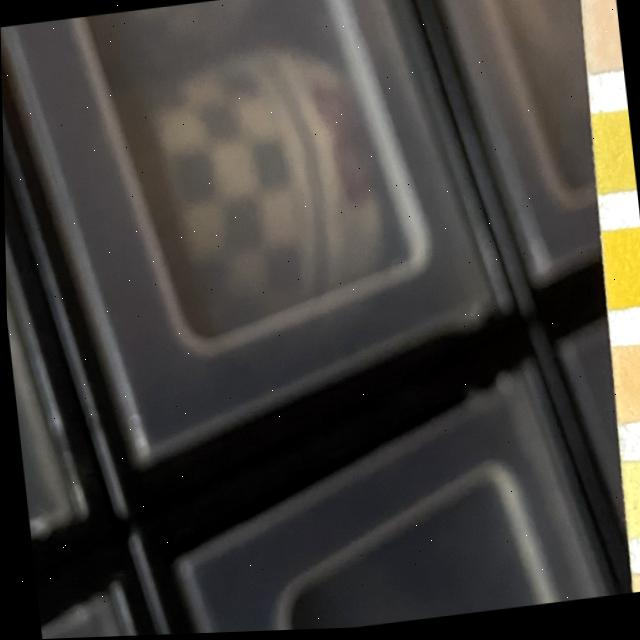Blood: (601, 234, 640, 311)
Ketone: (580, 0, 623, 75)
Protein: (619, 465, 640, 540)
SpGravity: (591, 116, 635, 193)
pH: (609, 352, 640, 425)
